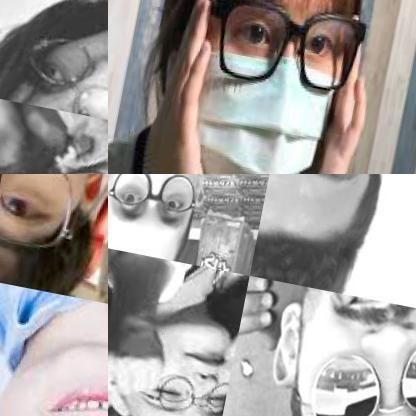glasses: (195, 0, 371, 105), (279, 302, 415, 415), (0, 4, 107, 129), (0, 174, 97, 264), (115, 350, 230, 415), (108, 174, 210, 231), (267, 174, 395, 204)
